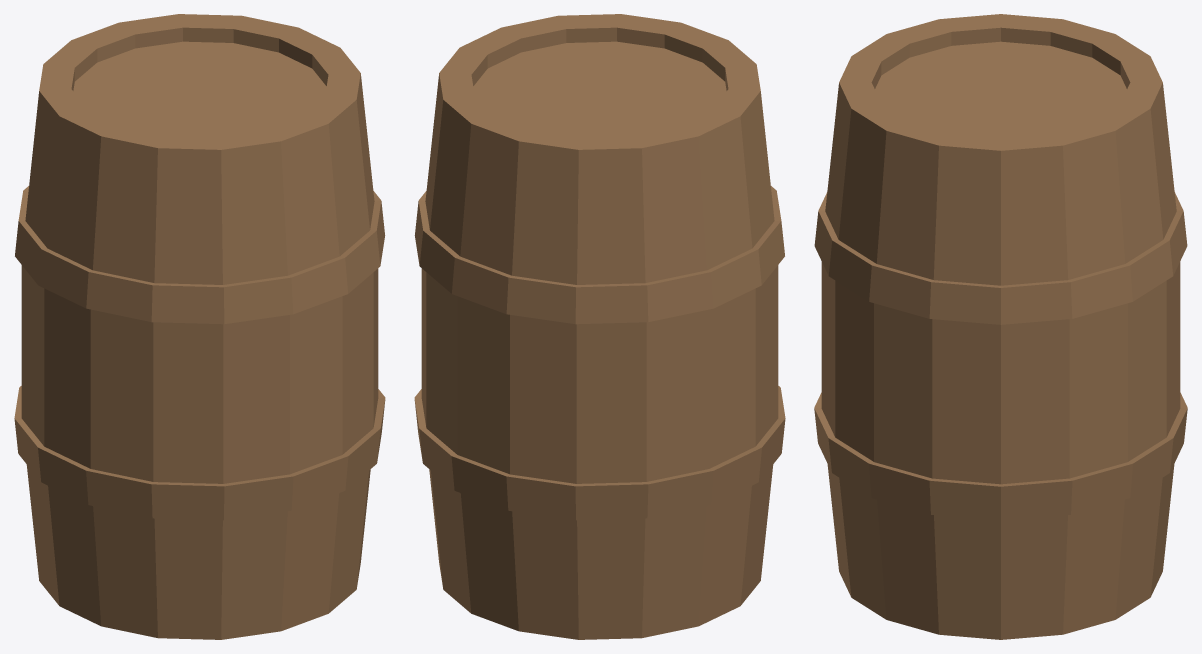
File: barrel.fbx
3 renders of one model, left to right at view 1: azimuth 30°, elevation 25°; view 2: azimuth 150°, elevation 25°; view 3: azimuth 270°, elevation 25°, orthographic.
Parts seen in each view (by area): view 1: Barrel.001; view 2: Barrel.001; view 3: Barrel.001.
Boxes of the visible parts, x1,y1,x2,y2 form: Barrel.001: [14, 14, 385, 639]; Barrel.001: [414, 14, 785, 639]; Barrel.001: [814, 14, 1187, 639].
Size of the model in its own units: 104 by 150 by 104.
